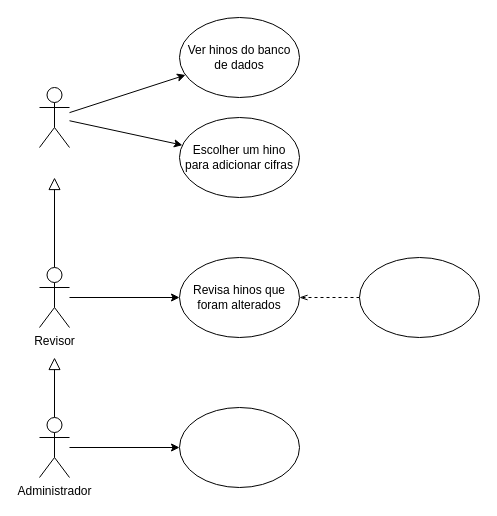
This 497x516 diagram has some shape labels left out. Here are the shapes that lost their labels. From the top down, the box of each, then its label:
(38, 86, 70, 148): Colaborador
(358, 256, 480, 338): Poder de aprovação
(178, 406, 300, 488): Gerencia usuários
